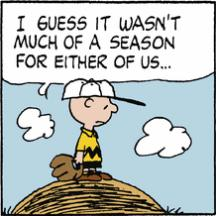charlie: (62, 78, 119, 182)
